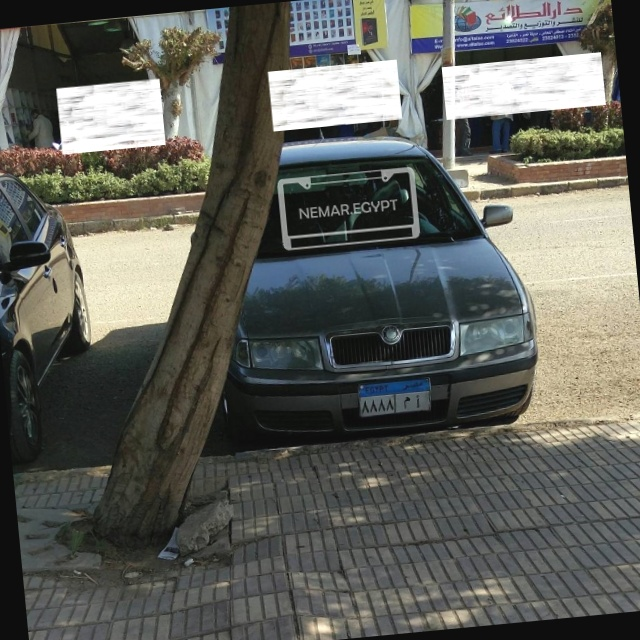License Plate: (354, 374, 435, 420)
